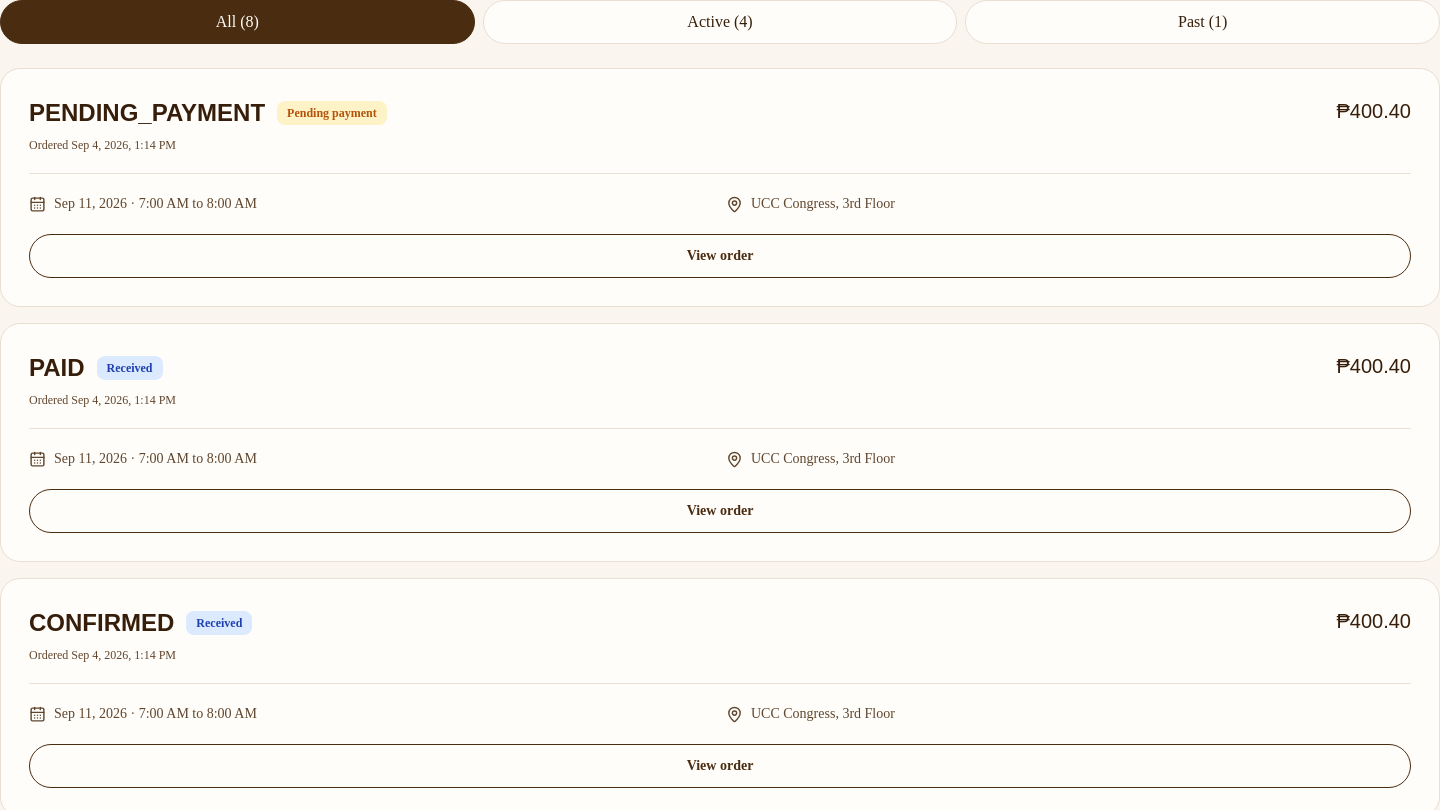
Test case: OrdersList › groups fulfillment orders under Active and completed orders under Past
What coordinates should you click on to do the following:
click the button "Active (4)"
I would click on:
 (720, 22)
Its box is left=483, top=0, right=957, bottom=44.
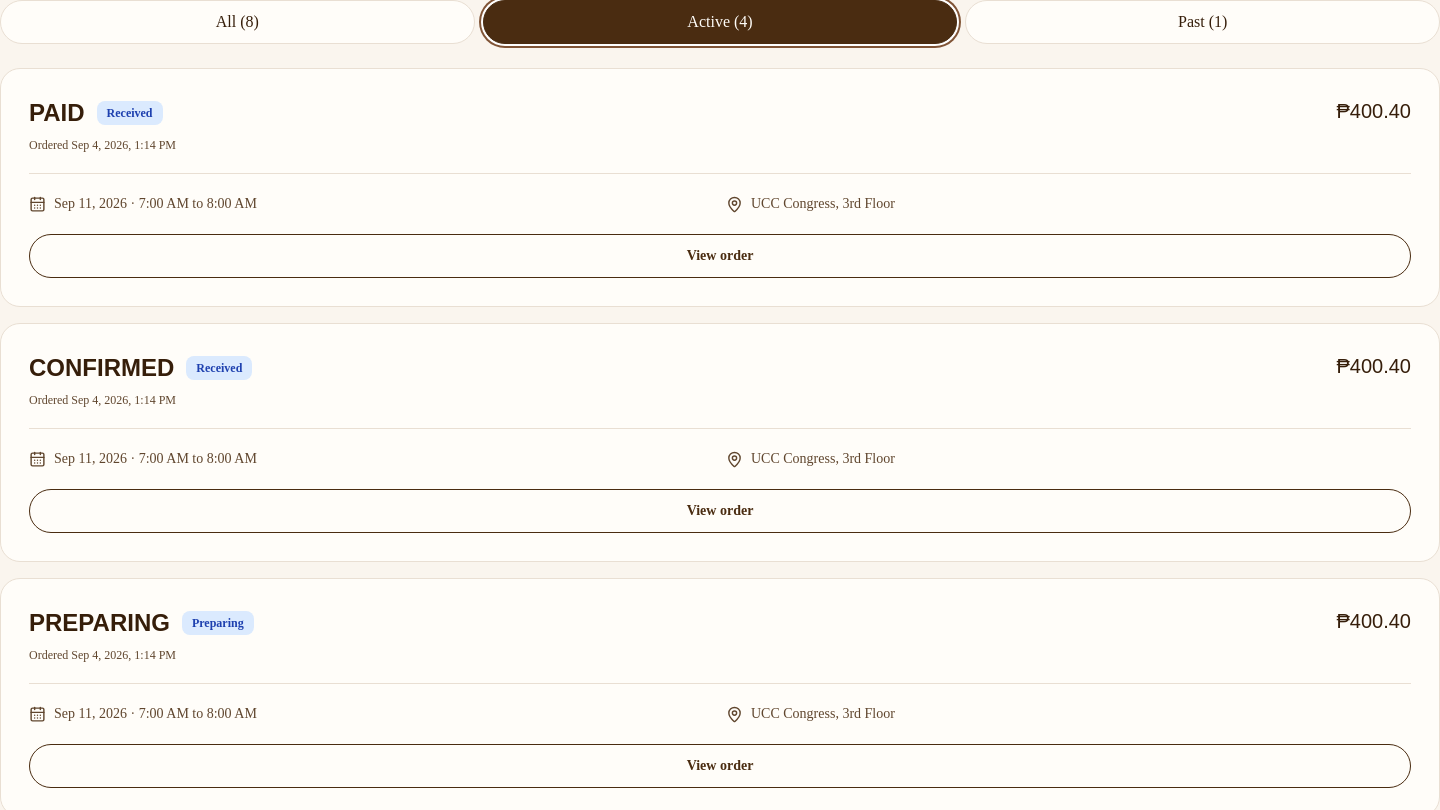
Expected: the number of links "View order" is 4
Expected: the heading "PENDING_PAYMENT" is gone
What coordinates should you click on to do the following:
click the button "Past (1)"
I would click on:
 (1203, 22)
Its box is left=965, top=0, right=1439, bottom=44.
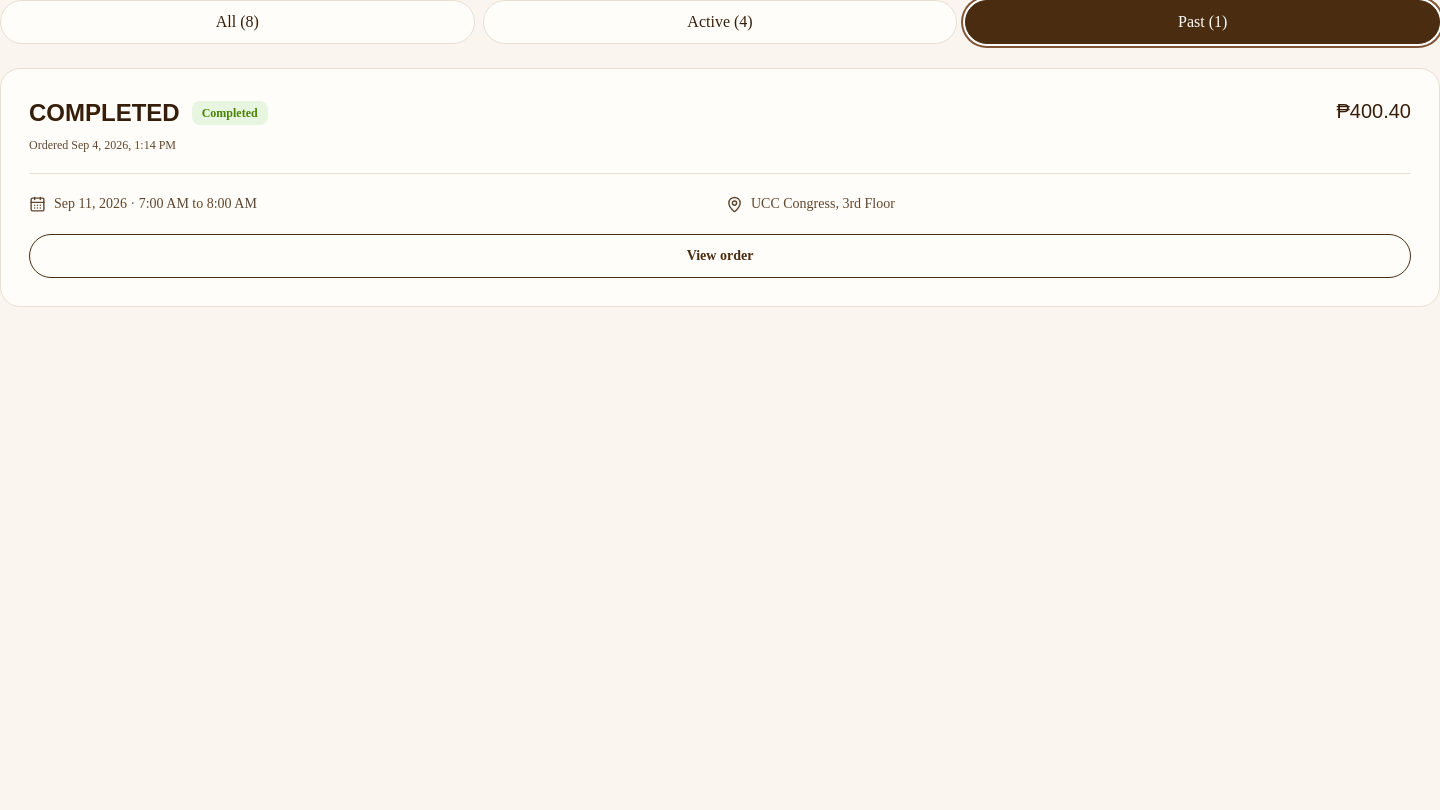
Expected: the number of links "View order" is 1, left=29, top=234, right=1411, bottom=278
Expected: the heading "COMPLETED" is shown, left=29, top=97, right=180, bottom=129
